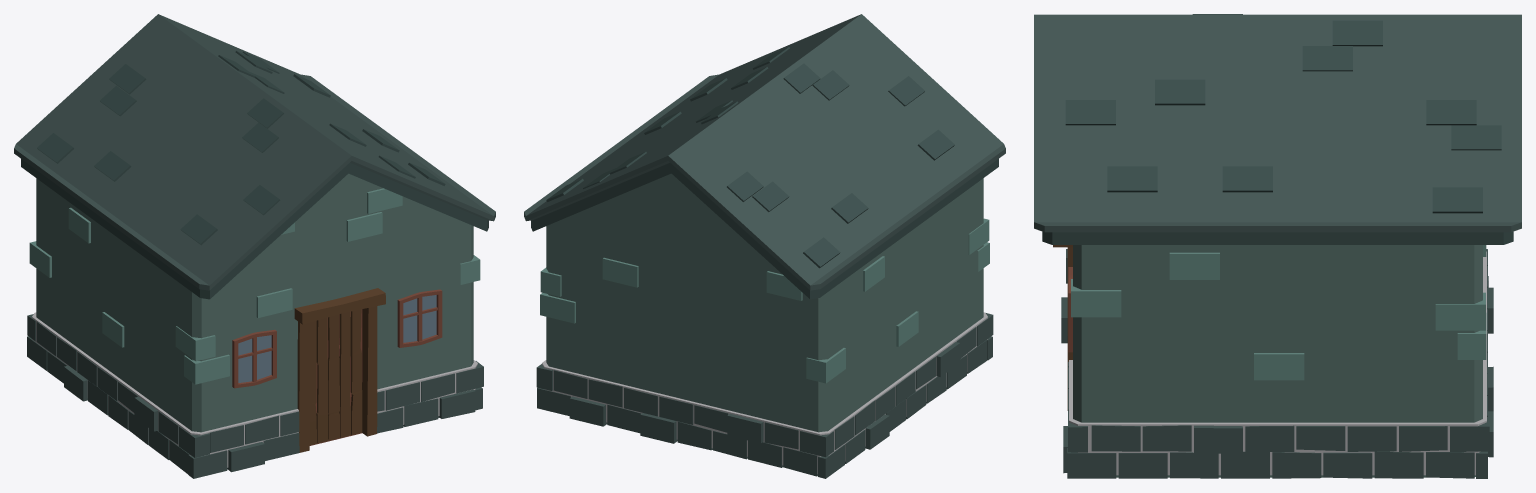
File: quaternius-buildings-pack-3-1-story-gable-roof-mat.glb
3 renders of one model, left to right at view 1: azimuth 30°, elevation 25°; view 2: azimuth 150°, elevation 25°; view 3: azimuth 270°, elevation 25°, orthographic. The views are drawn at different scales.
Parts seen in each view (by area): view 1: 1Story_GableRoof_Mat; view 2: 1Story_GableRoof_Mat; view 3: 1Story_GableRoof_Mat.
Part boxes in pixels (x1,y1,x2,y2): 1Story_GableRoof_Mat: [14, 14, 495, 478]; 1Story_GableRoof_Mat: [524, 14, 1005, 478]; 1Story_GableRoof_Mat: [1034, 14, 1521, 478].
Bounding box in the file's own units: 2.11 × 2.02 × 2.38.
1 material, 1 textured.
